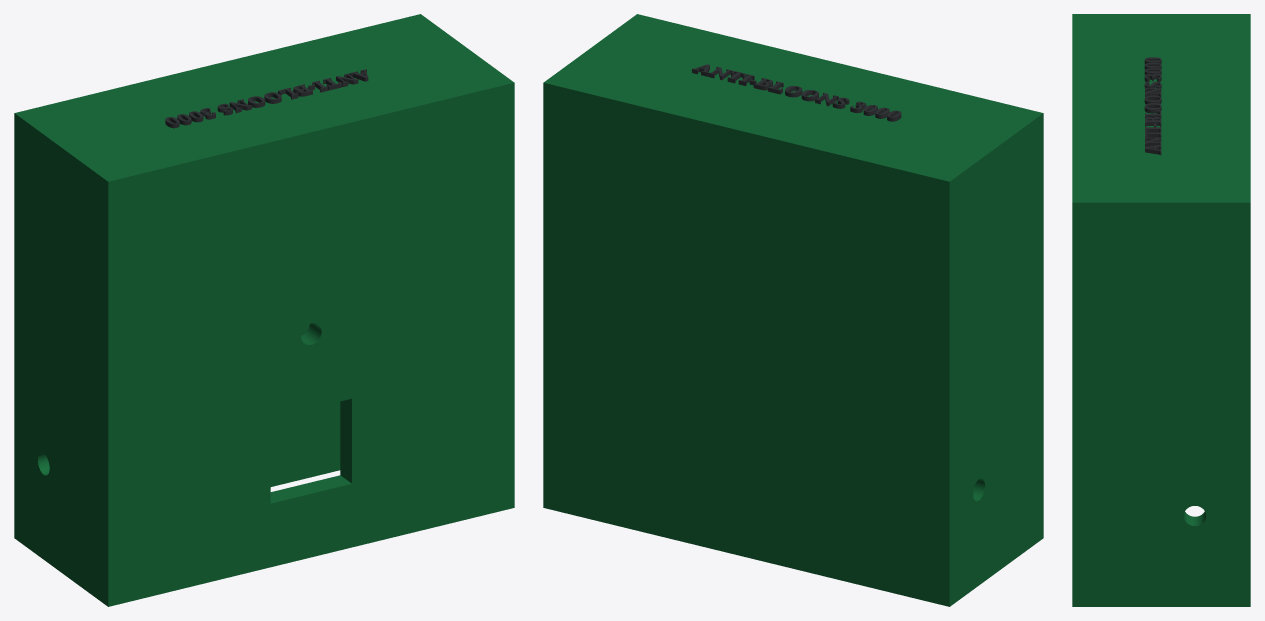
File: tinker.obj
3 renders of one model, left to right at view 1: azimuth 30°, elevation 25°; view 2: azimuth 150°, elevation 25°; view 3: azimuth 270°, elevation 25°, orthographic. The views are drawn at different scales.
Visible parts, largest first — view 1: group_0_1206582, group_0_2829873; view 2: group_0_1206582, group_0_2829873; view 3: group_0_1206582, group_0_2829873.
Boxes of the visible parts, bbox=[...] form: group_0_1206582: bbox=[14, 14, 514, 606]; group_0_2829873: bbox=[165, 69, 368, 128]; group_0_1206582: bbox=[543, 14, 1043, 606]; group_0_2829873: bbox=[692, 64, 901, 121]; group_0_1206582: bbox=[1072, 14, 1250, 606]; group_0_2829873: bbox=[1144, 57, 1161, 155].
Bounding box in the file's own units: 20 × 20.19 × 8.
